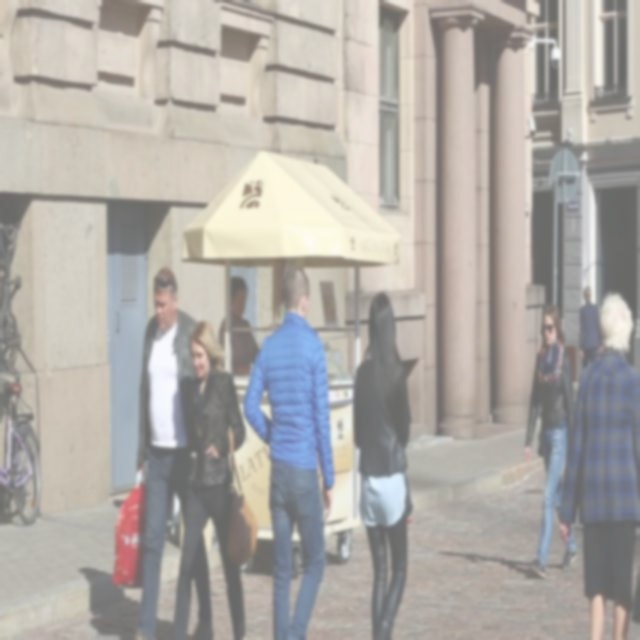pessoa: (241, 262, 336, 638), (558, 288, 640, 639), (170, 318, 248, 638), (133, 266, 200, 638), (352, 291, 416, 638), (523, 301, 580, 584), (217, 274, 262, 378), (578, 284, 604, 371), (276, 258, 304, 330)
